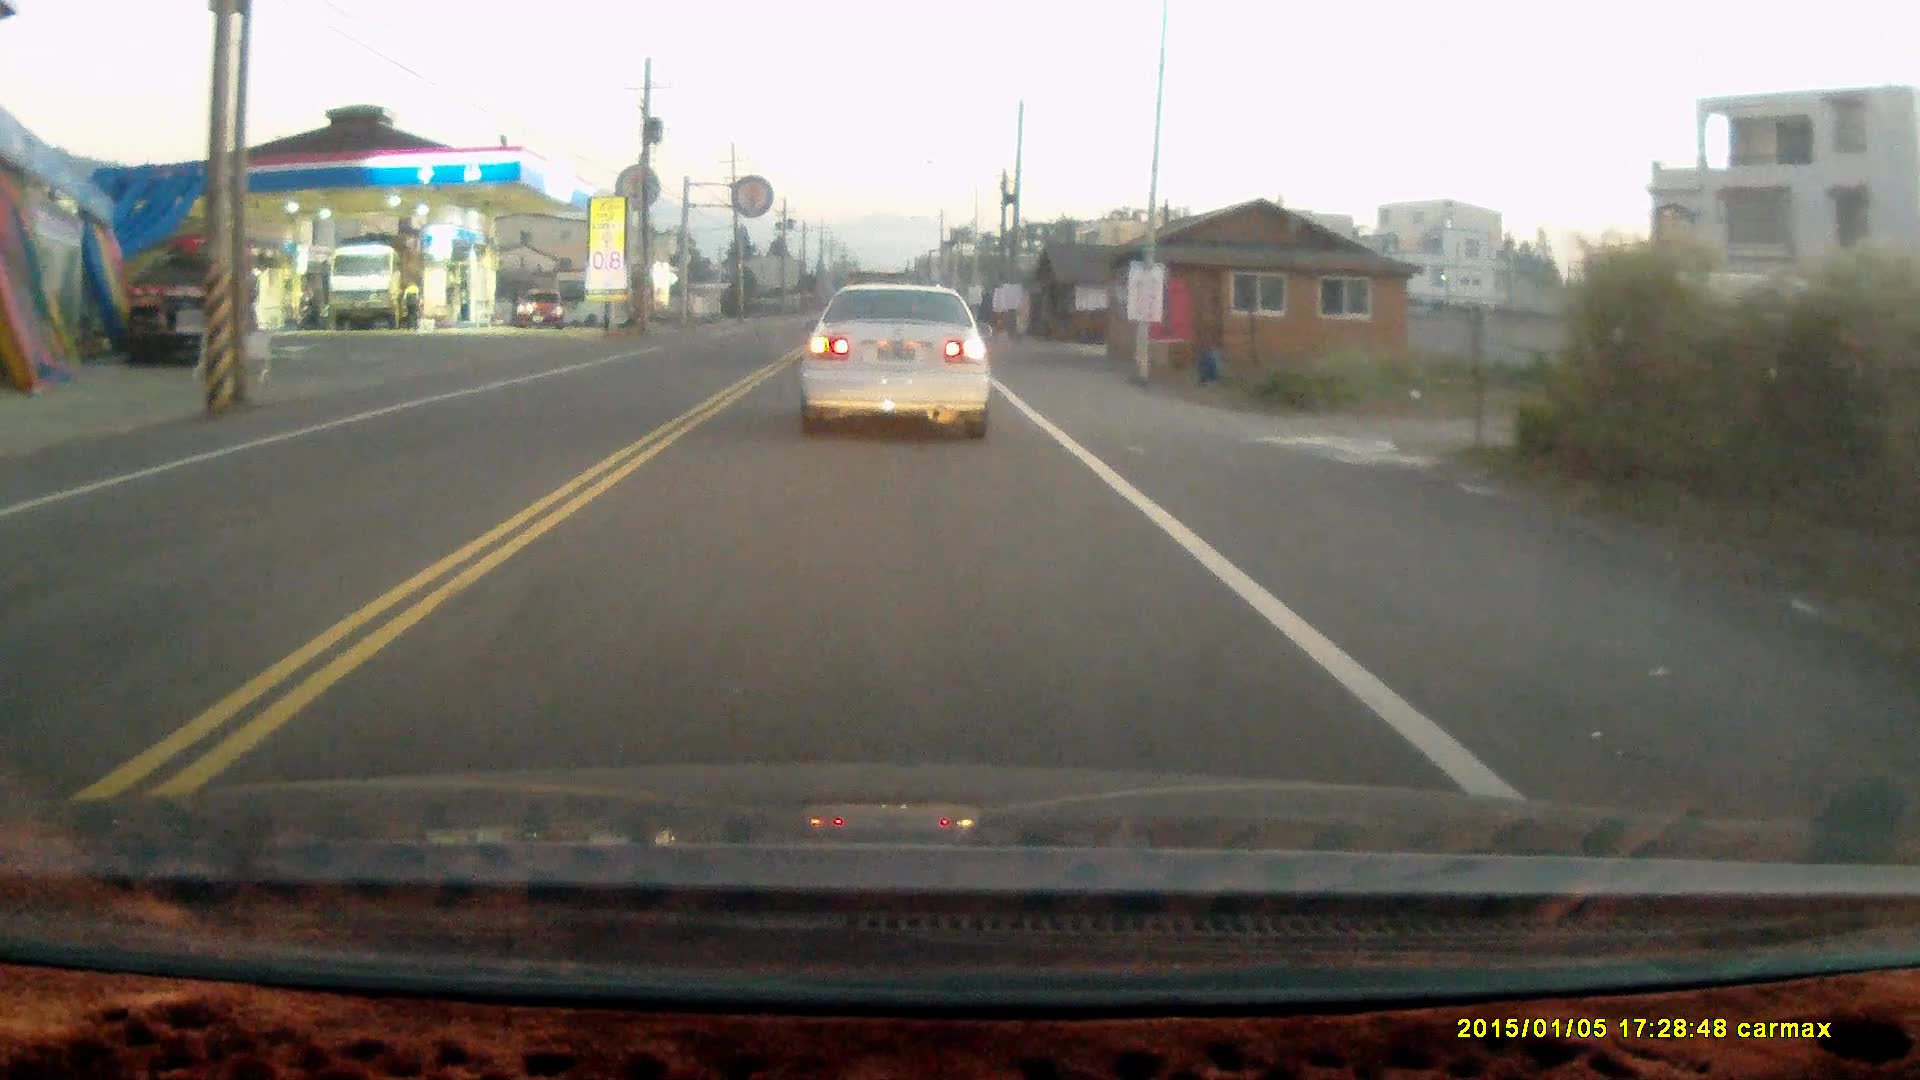pedestrian: (401, 276, 421, 326)
vehicle: (798, 284, 999, 443), (117, 233, 263, 371), (329, 243, 420, 334), (518, 288, 564, 327)
